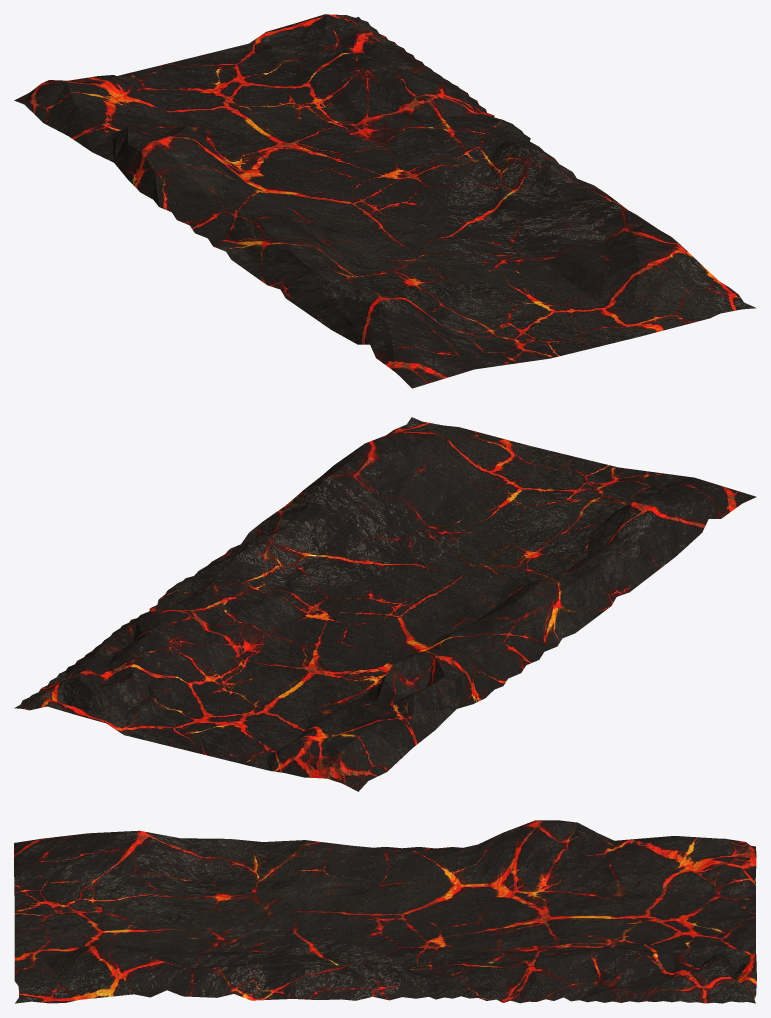
File: HellTerrain2.fbx
3 renders of one model, top to bottom at view 1: azimuth 30°, elevation 25°; view 2: azimuth 150°, elevation 25°; view 3: azimuth 270°, elevation 25°, orthographic. The views are drawn at different scales.
Visible parts, largest first — view 1: Plane; view 2: Plane; view 3: Plane.
Part boxes in pixels (x1=…): Plane: x1=14, y1=14, x2=756, y2=388; Plane: x1=14, y1=417, x2=756, y2=791; Plane: x1=14, y1=820, x2=756, y2=1003.
Bounding box in the file's own units: 20.09 × 2.33 × 40.09.
